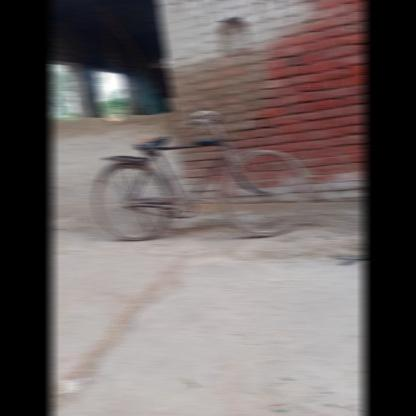Bicycle: (79, 98, 326, 256)
